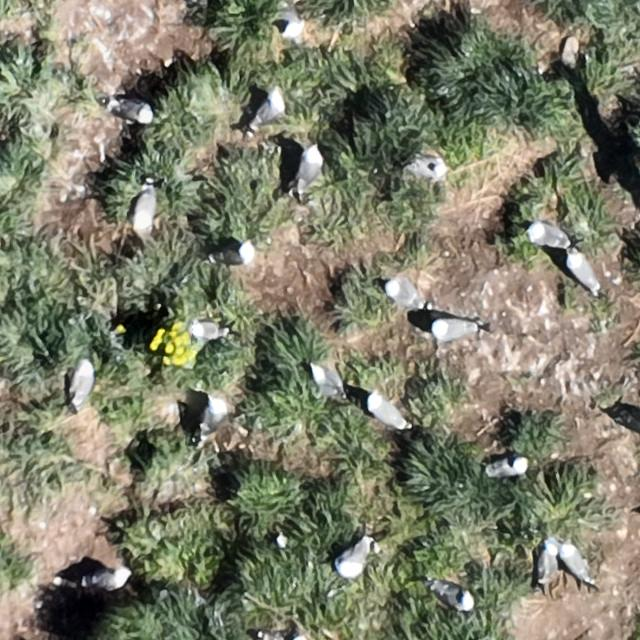umineko: (132, 186, 162, 235), (366, 398, 405, 428), (382, 280, 423, 308), (275, 8, 307, 42), (338, 542, 369, 576), (431, 583, 471, 609), (256, 92, 286, 126), (564, 548, 592, 582), (85, 569, 128, 591), (72, 361, 94, 404), (571, 255, 598, 290), (112, 99, 153, 122), (528, 223, 569, 246), (432, 320, 473, 342), (298, 148, 320, 187), (200, 397, 224, 432), (489, 457, 527, 478), (407, 157, 443, 179), (312, 367, 342, 393), (213, 243, 252, 263), (189, 319, 222, 339), (618, 410, 640, 432)
